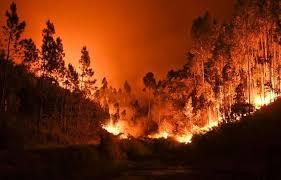fire: (96, 79, 281, 144)
